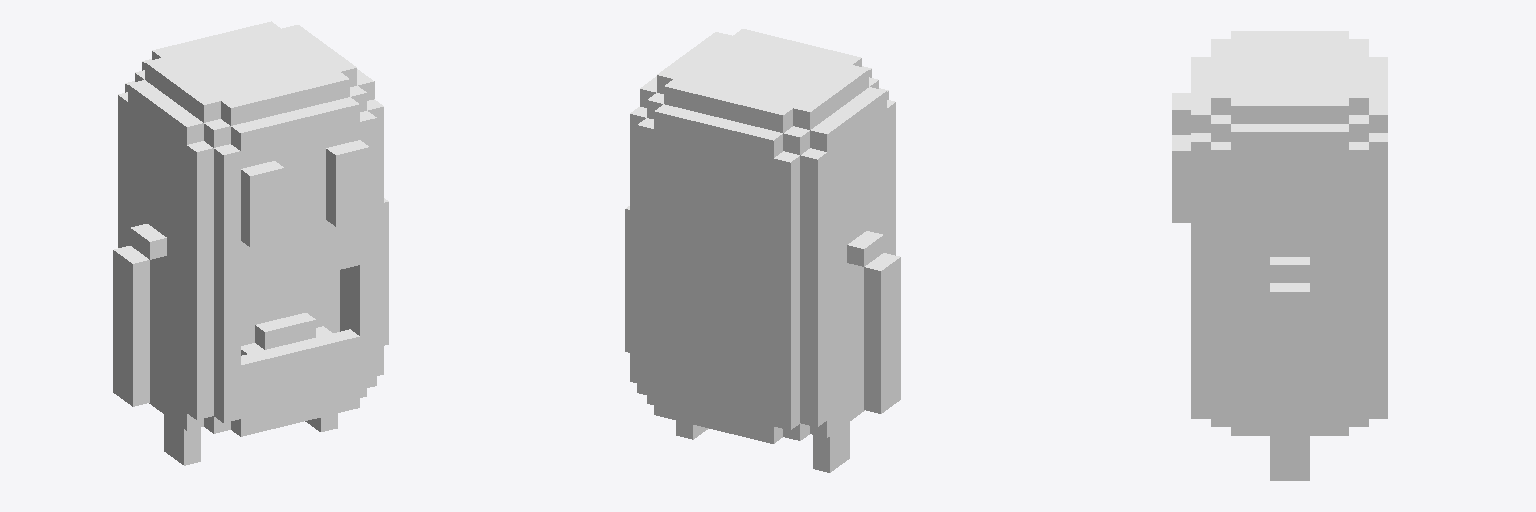
The model's file is FreakingOutGuy_Idle4.obj.
3 views of the same model, side by side, from view 1: azimuth 30°, elevation 25°; view 2: azimuth 150°, elevation 25°; view 3: azimuth 270°, elevation 25° (orthographic).
Parts seen in each view (by area): view 1: FreakingOutGuy_Idle4; view 2: FreakingOutGuy_Idle4; view 3: FreakingOutGuy_Idle4.
Boxes of the visible parts, box(x1,y1,x2,y2) form: FreakingOutGuy_Idle4: box(113, 21, 388, 465); FreakingOutGuy_Idle4: box(625, 29, 900, 472); FreakingOutGuy_Idle4: box(1172, 31, 1387, 480).
Size of the model in its own units: 15 by 21 by 11.